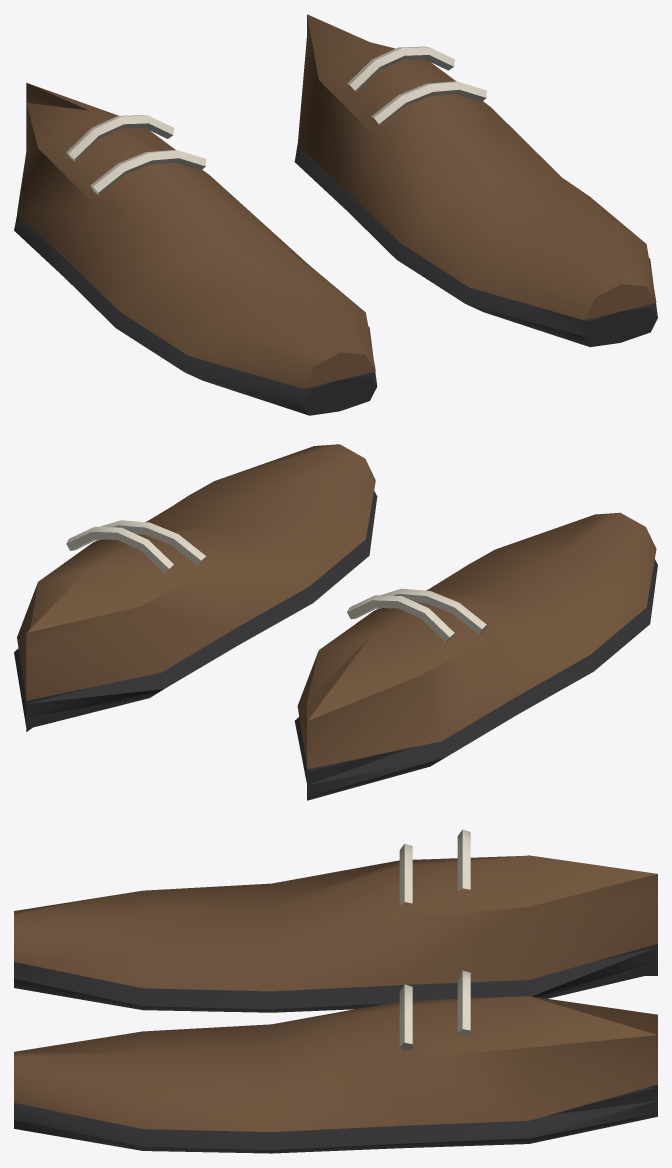
The model's file is shoes.lod2.glb.
The picture shows the model from 3 angles, top to bottom: view 1: azimuth 30°, elevation 25°; view 2: azimuth 150°, elevation 25°; view 3: azimuth 270°, elevation 25°; orthographic projection. The views are drawn at different scales.
Visible parts, largest first — view 1: Shoe_L, Shoe_R; view 2: Shoe_L, Shoe_R; view 3: Shoe_R, Shoe_L.
Boxes of the visible parts, x1,y1,x2,y2 form: Shoe_L: (14, 83, 377, 415); Shoe_R: (294, 14, 657, 347); Shoe_L: (294, 512, 657, 800); Shoe_R: (14, 444, 377, 731); Shoe_R: (14, 970, 657, 1153); Shoe_L: (14, 829, 657, 1012).
Size of the model in its own units: 0.2556 by 0.069 by 0.29.
